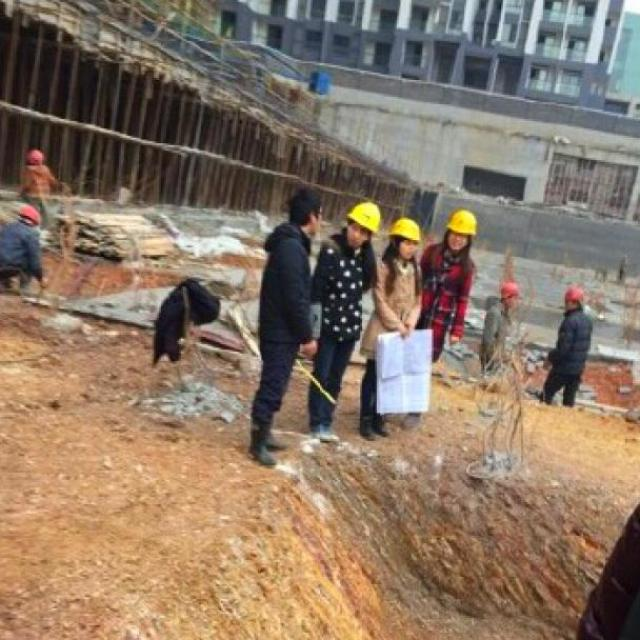helmet: (342, 195, 378, 251), (386, 210, 422, 263), (444, 201, 476, 257), (494, 275, 521, 307), (557, 282, 587, 306)
